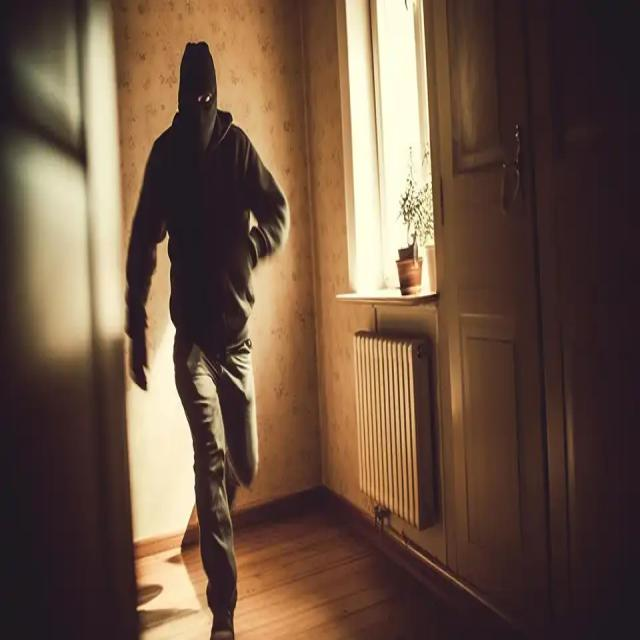intrusion detected: (125, 36, 289, 640)
